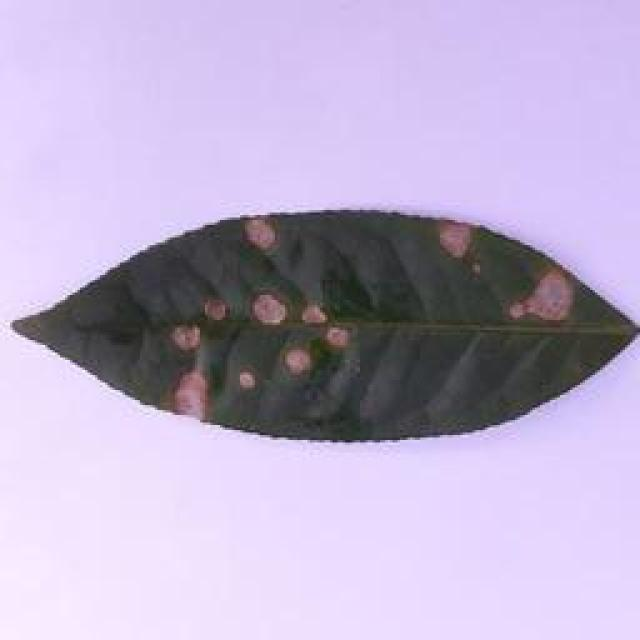Gray Blight: (7, 203, 640, 454)
